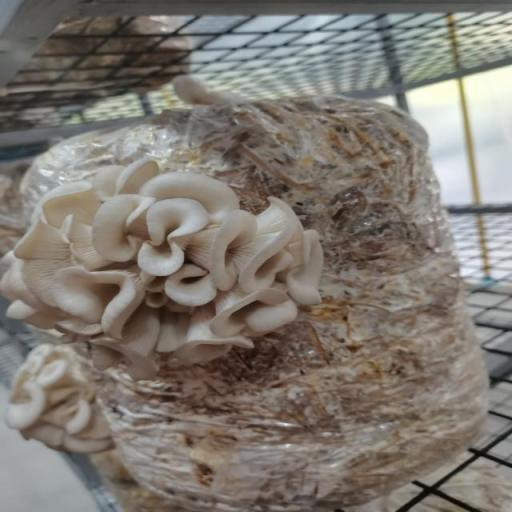White Oyster Mushroom: (3, 154, 333, 379)
